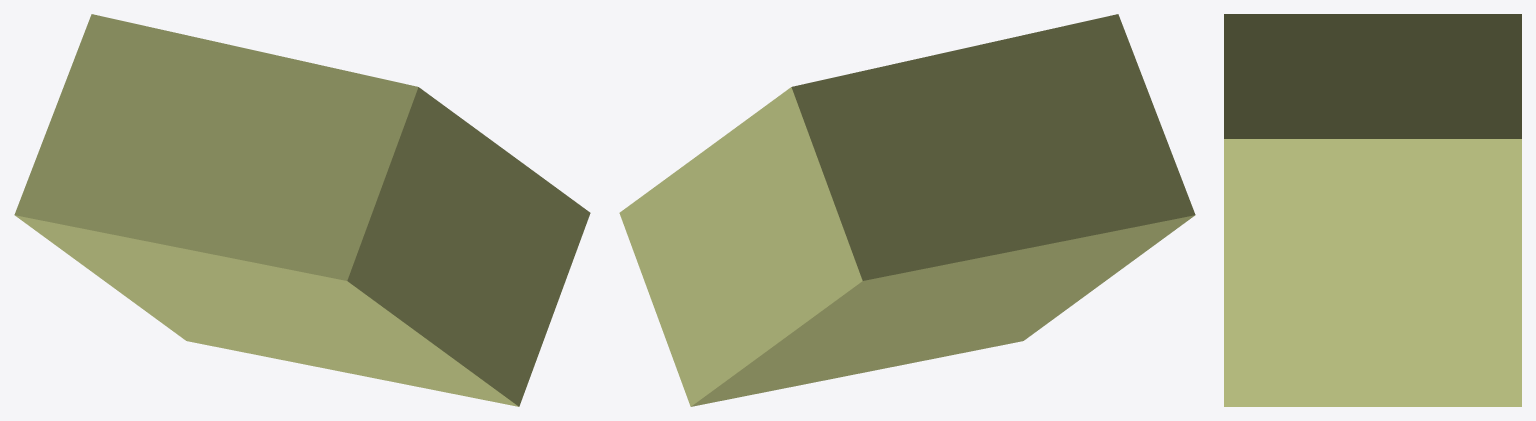
The picture shows the model from 3 angles, left to right: view 1: azimuth 30°, elevation 25°; view 2: azimuth 150°, elevation 25°; view 3: azimuth 270°, elevation 25°; orthographic projection. The views are drawn at different scales.
Parts seen in each view (by area): view 1: 0_1_0_0_0_1_1_2_2_2_1; view 2: 0_1_0_0_0_1_1_2_2_2_1; view 3: 0_1_0_0_0_1_1_2_2_2_1.
Boxes of the visible parts, bbox=[...] form: 0_1_0_0_0_1_1_2_2_2_1: bbox=[14, 14, 590, 406]; 0_1_0_0_0_1_1_2_2_2_1: bbox=[619, 14, 1195, 406]; 0_1_0_0_0_1_1_2_2_2_1: bbox=[1224, 14, 1521, 406].
Bounding box in the file's own units: 8.14 × 6.34 × 6.
